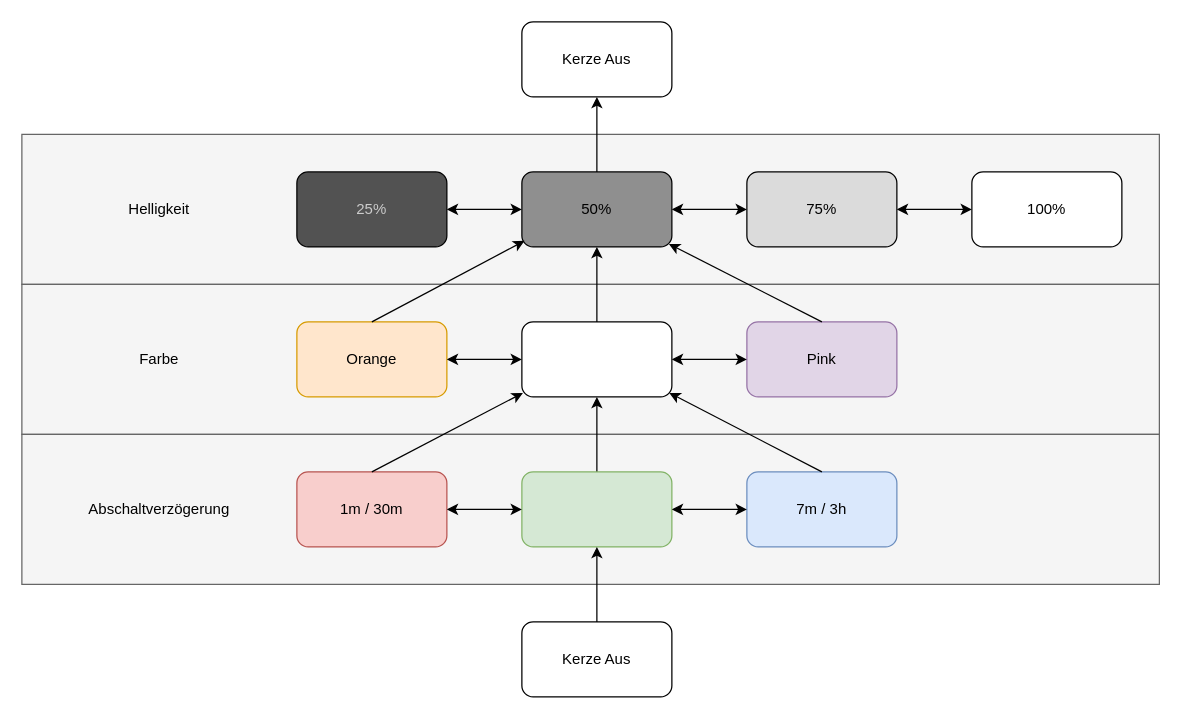
Some shapes in this 1181 by 719 pixel diagram are drawn without their labels. Here are the shapes that lost their labels. From the top down, the centre of each, then its label:
At point (596, 359): "Weiß".
At point (596, 509): "3m / 1h".
